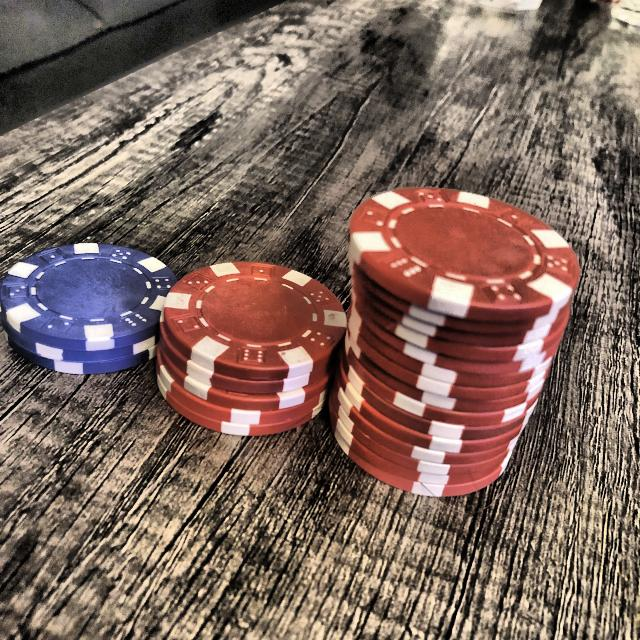Chip: (312, 158, 610, 492), (144, 231, 359, 448), (0, 226, 191, 380)
